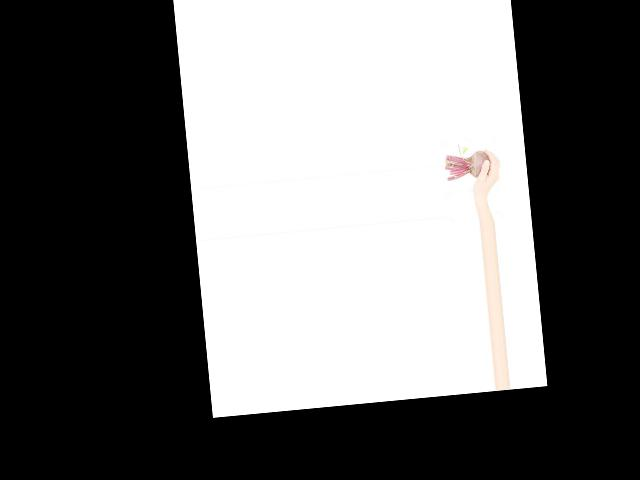beet: (443, 141, 492, 180)
